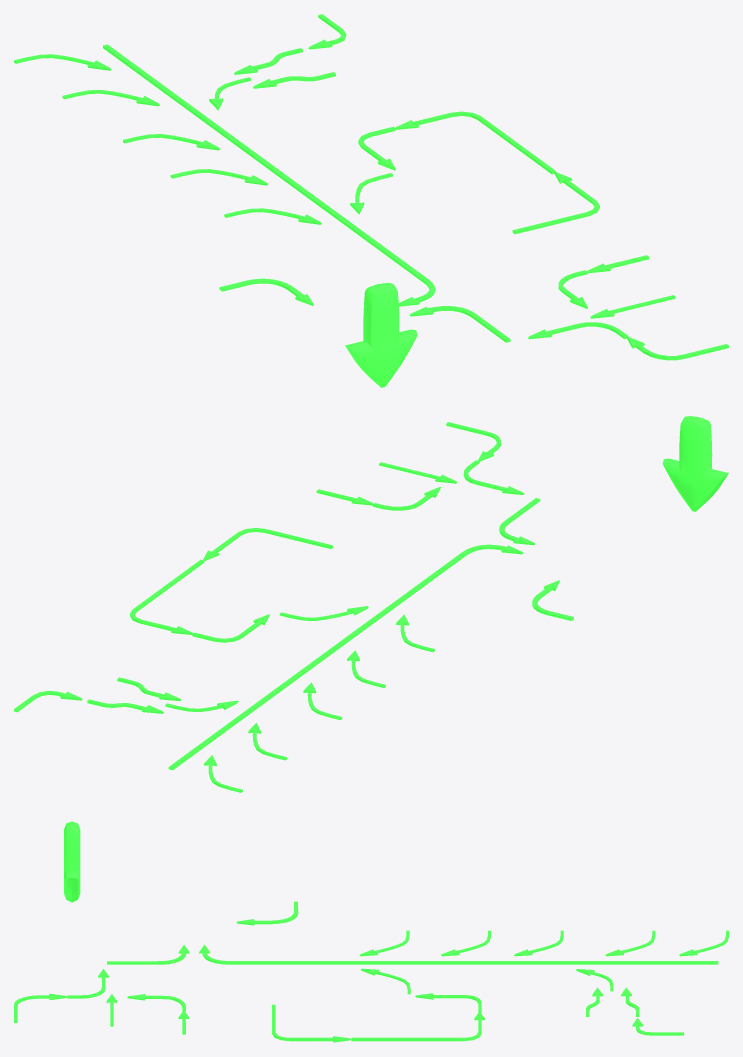
File: Navigation_2.glb
3 views of the same model, one above another, from view 1: azimuth 30°, elevation 25°; view 2: azimuth 150°, elevation 25°; view 3: azimuth 270°, elevation 25° (orthographic). The views are drawn at different scales.
Parts seen in each view (by area): view 1: Navigation_2; view 2: Navigation_2; view 3: Navigation_2.
Boxes of the visible parts, x1,y1,x2,y2 form: Navigation_2: (14,14,728,387); Navigation_2: (14,416,728,792); Navigation_2: (14,821,728,1042).
Size of the model in its own units: 8.31 by 2.22 by 17.05.
